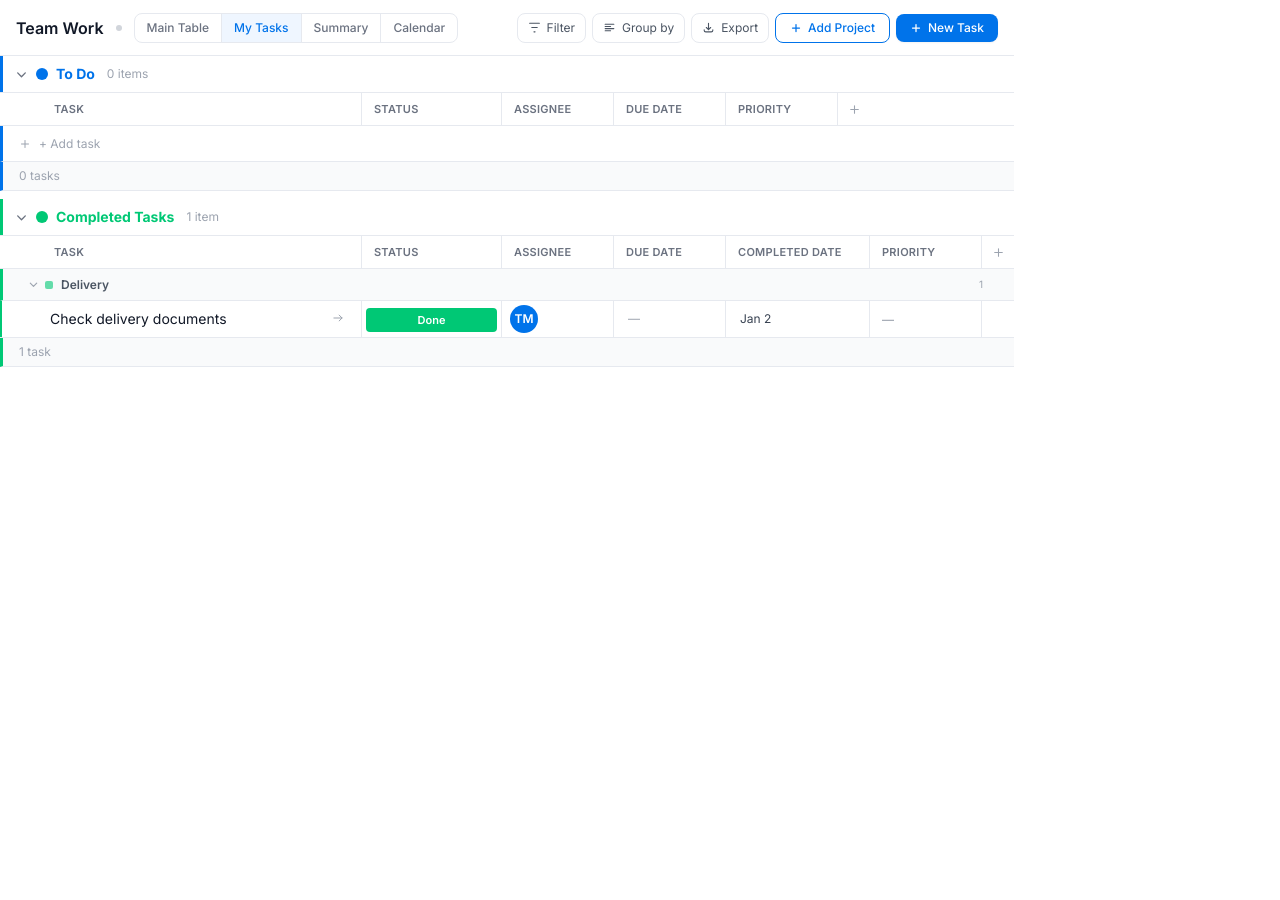
completion changes through task details › reopens a completed project task and clears its completion date in a single task write
This screenshot has width=1280, height=900.
Click the button "Check delivery documents" at (186, 319), box left=50, top=309, right=323, bottom=329
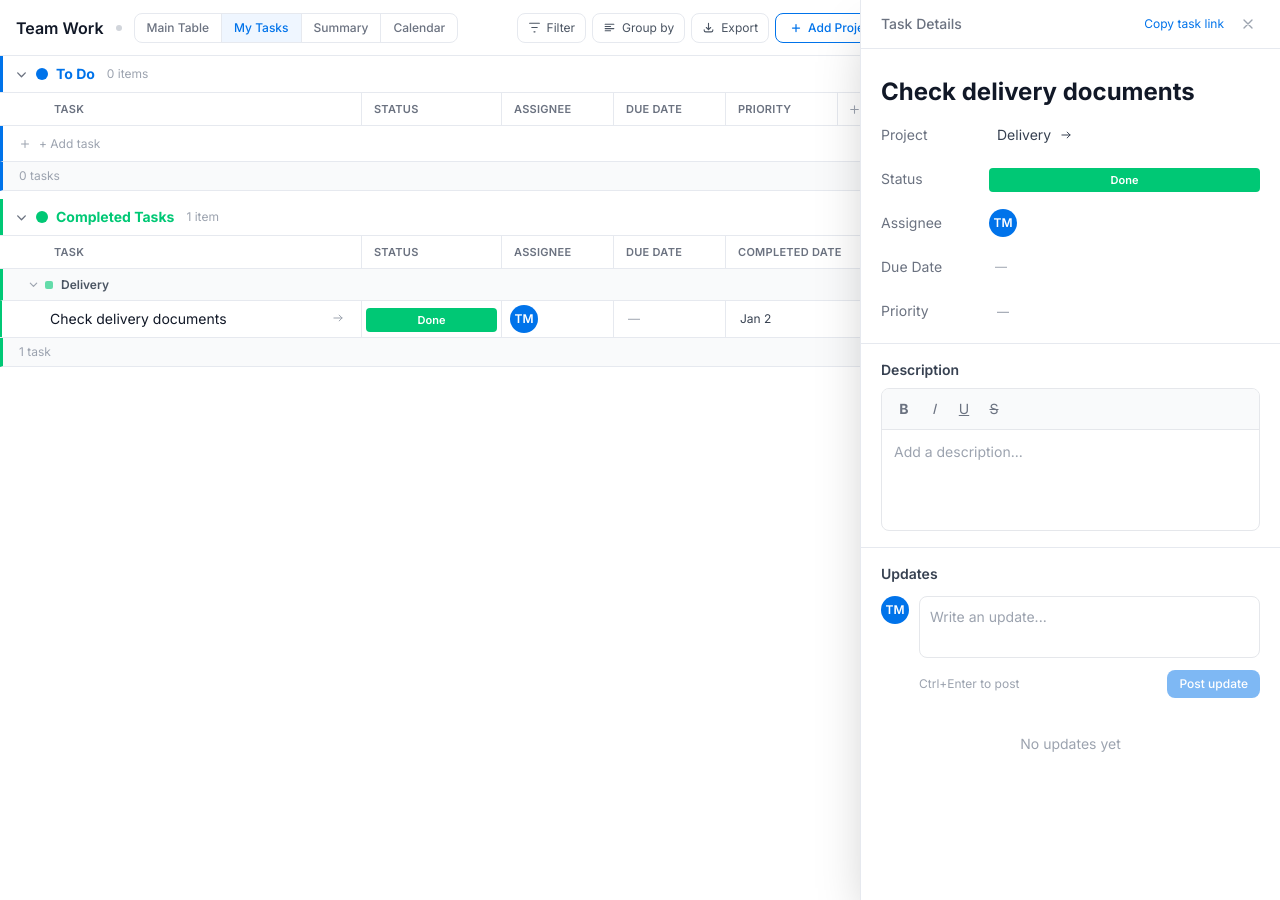
Click the button "Done" below "Task Details" at (1124, 180), box left=989, top=168, right=1260, bottom=192
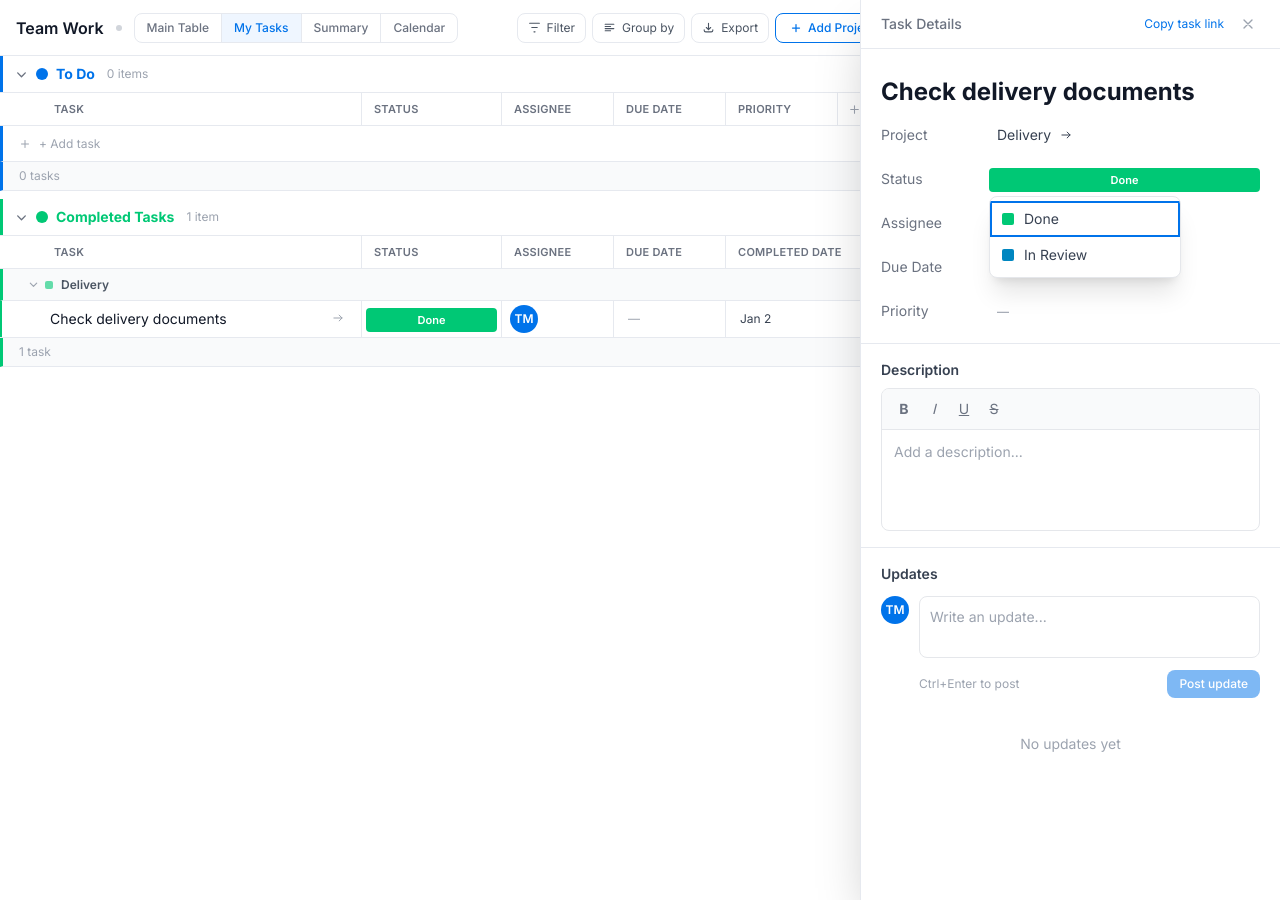
Press the mouse on the menu item "In Review" at (1085, 255), box left=990, top=237, right=1180, bottom=273
Expected: the text "Task Details" is shown, left=881, top=14, right=962, bottom=34
Click the menu item "In Review" at (1085, 255), box left=990, top=237, right=1180, bottom=273
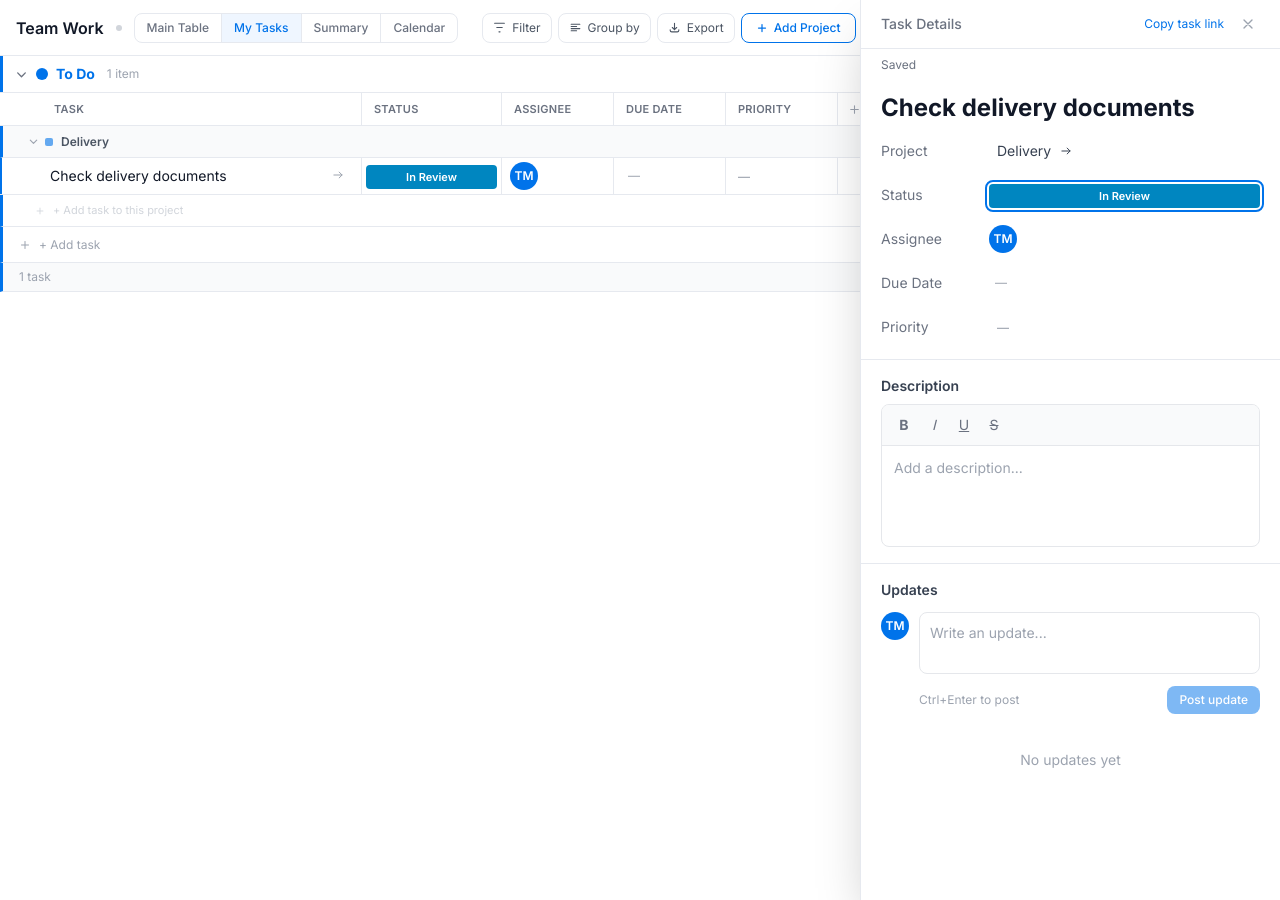
Expected: the button "Check delivery documents" below "To Do" is shown, left=50, top=166, right=323, bottom=186
Expected: the text "Completed Tasks" is gone
